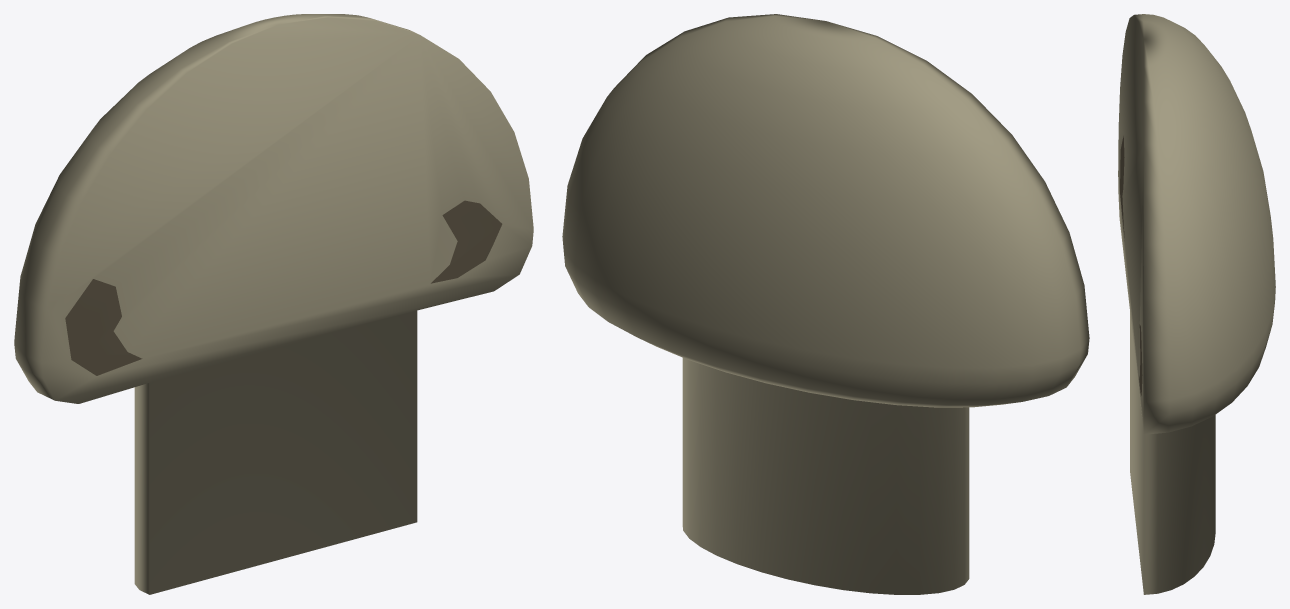
The model's file is mantar dilim.fbx.
3 renders of one model, left to right at view 1: azimuth 30°, elevation 25°; view 2: azimuth 150°, elevation 25°; view 3: azimuth 270°, elevation 25°, orthographic. The views are drawn at different scales.
Parts seen in each view (by area): view 1: Sphere.009; view 2: Sphere.009; view 3: Sphere.009.
Part boxes in pixels (x1=…): Sphere.009: x1=14, y1=14, x2=533, y2=594; Sphere.009: x1=562, y1=14, x2=1089, y2=594; Sphere.009: x1=1118, y1=14, x2=1275, y2=594.
Size of the model in its own units: 102 by 102 by 29.56.
